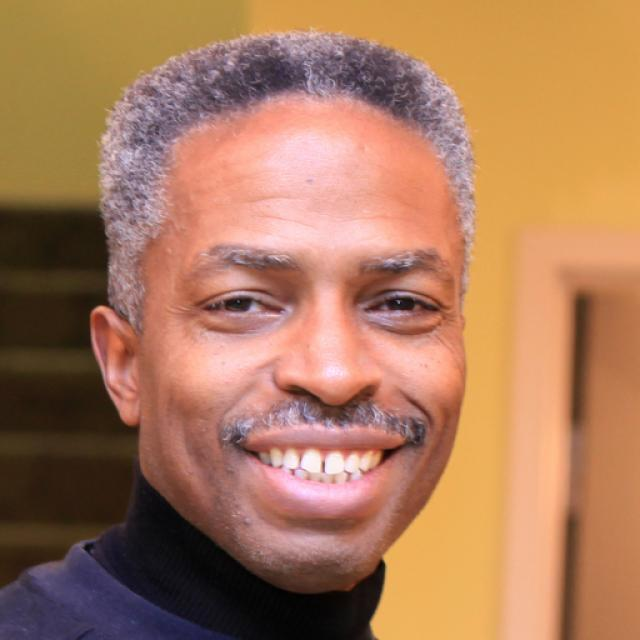happy: (140, 103, 471, 578)
